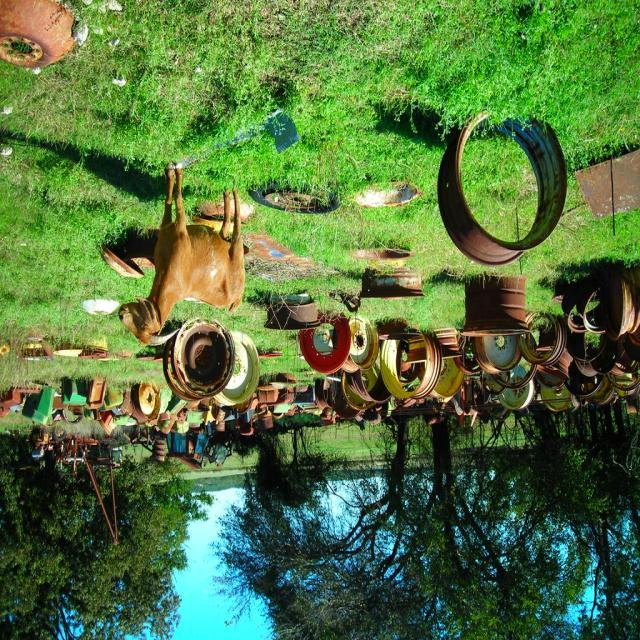Goat: (117, 162, 246, 348)
